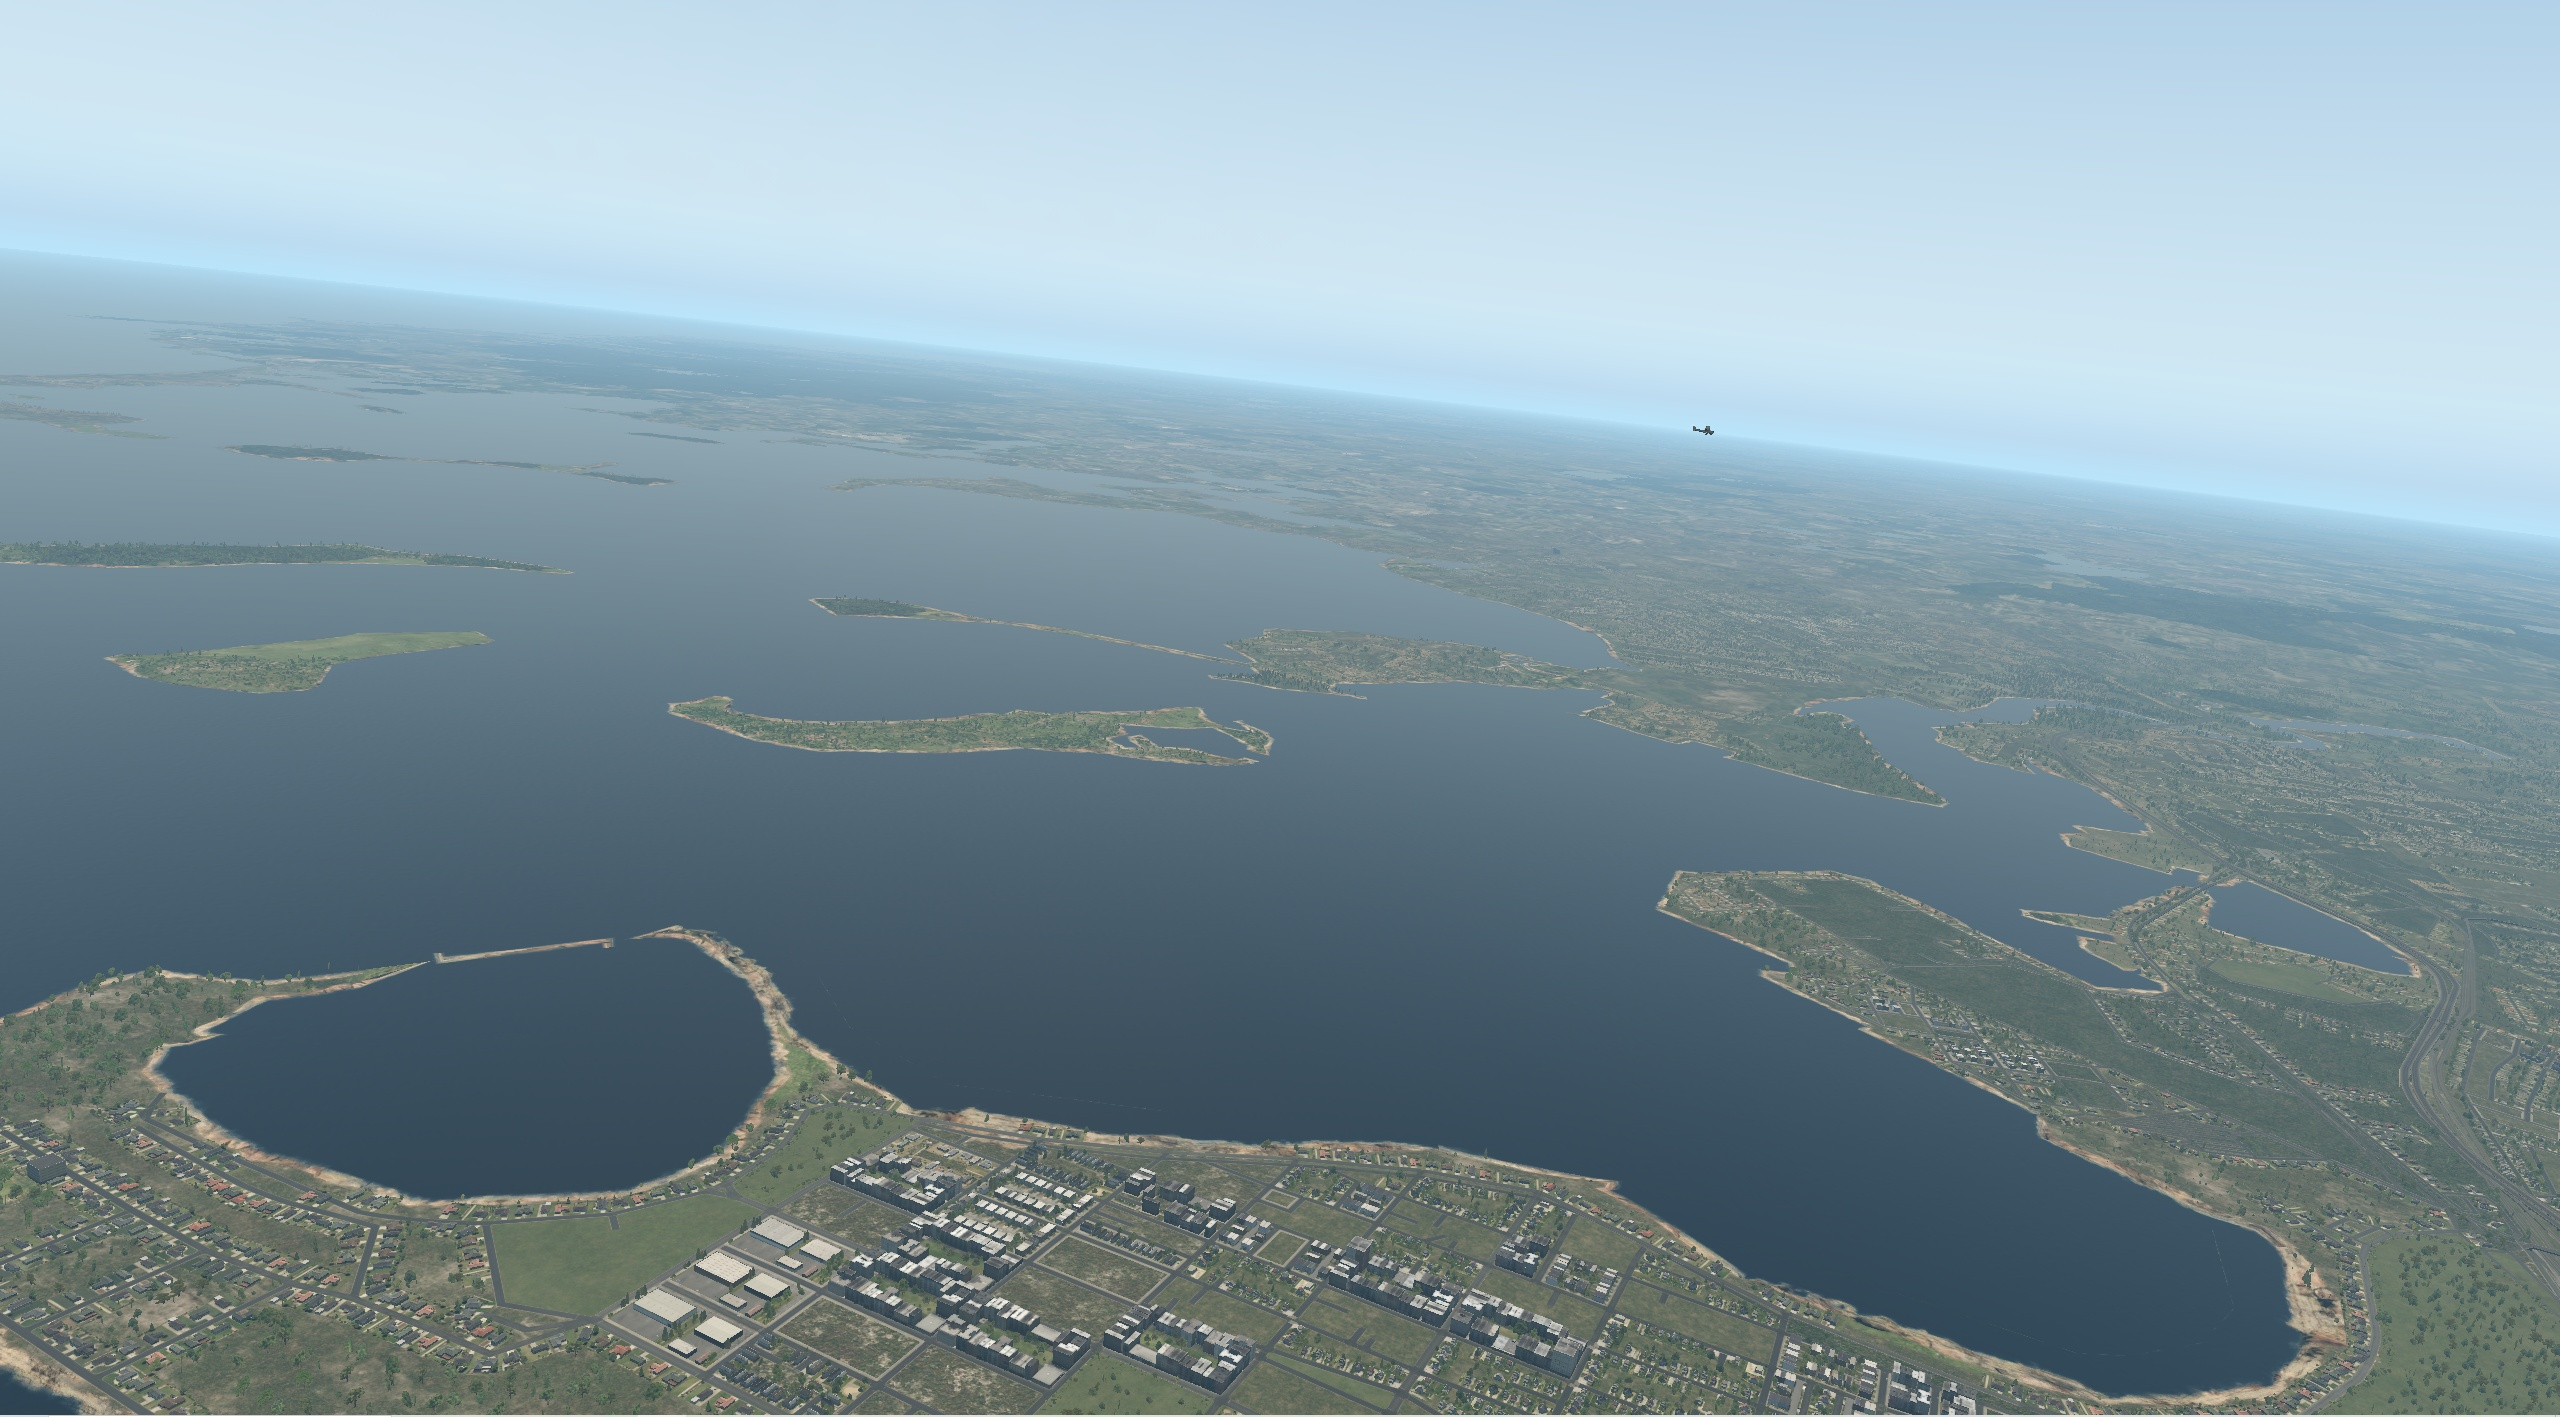aircraft: (1691, 424, 1726, 438)
